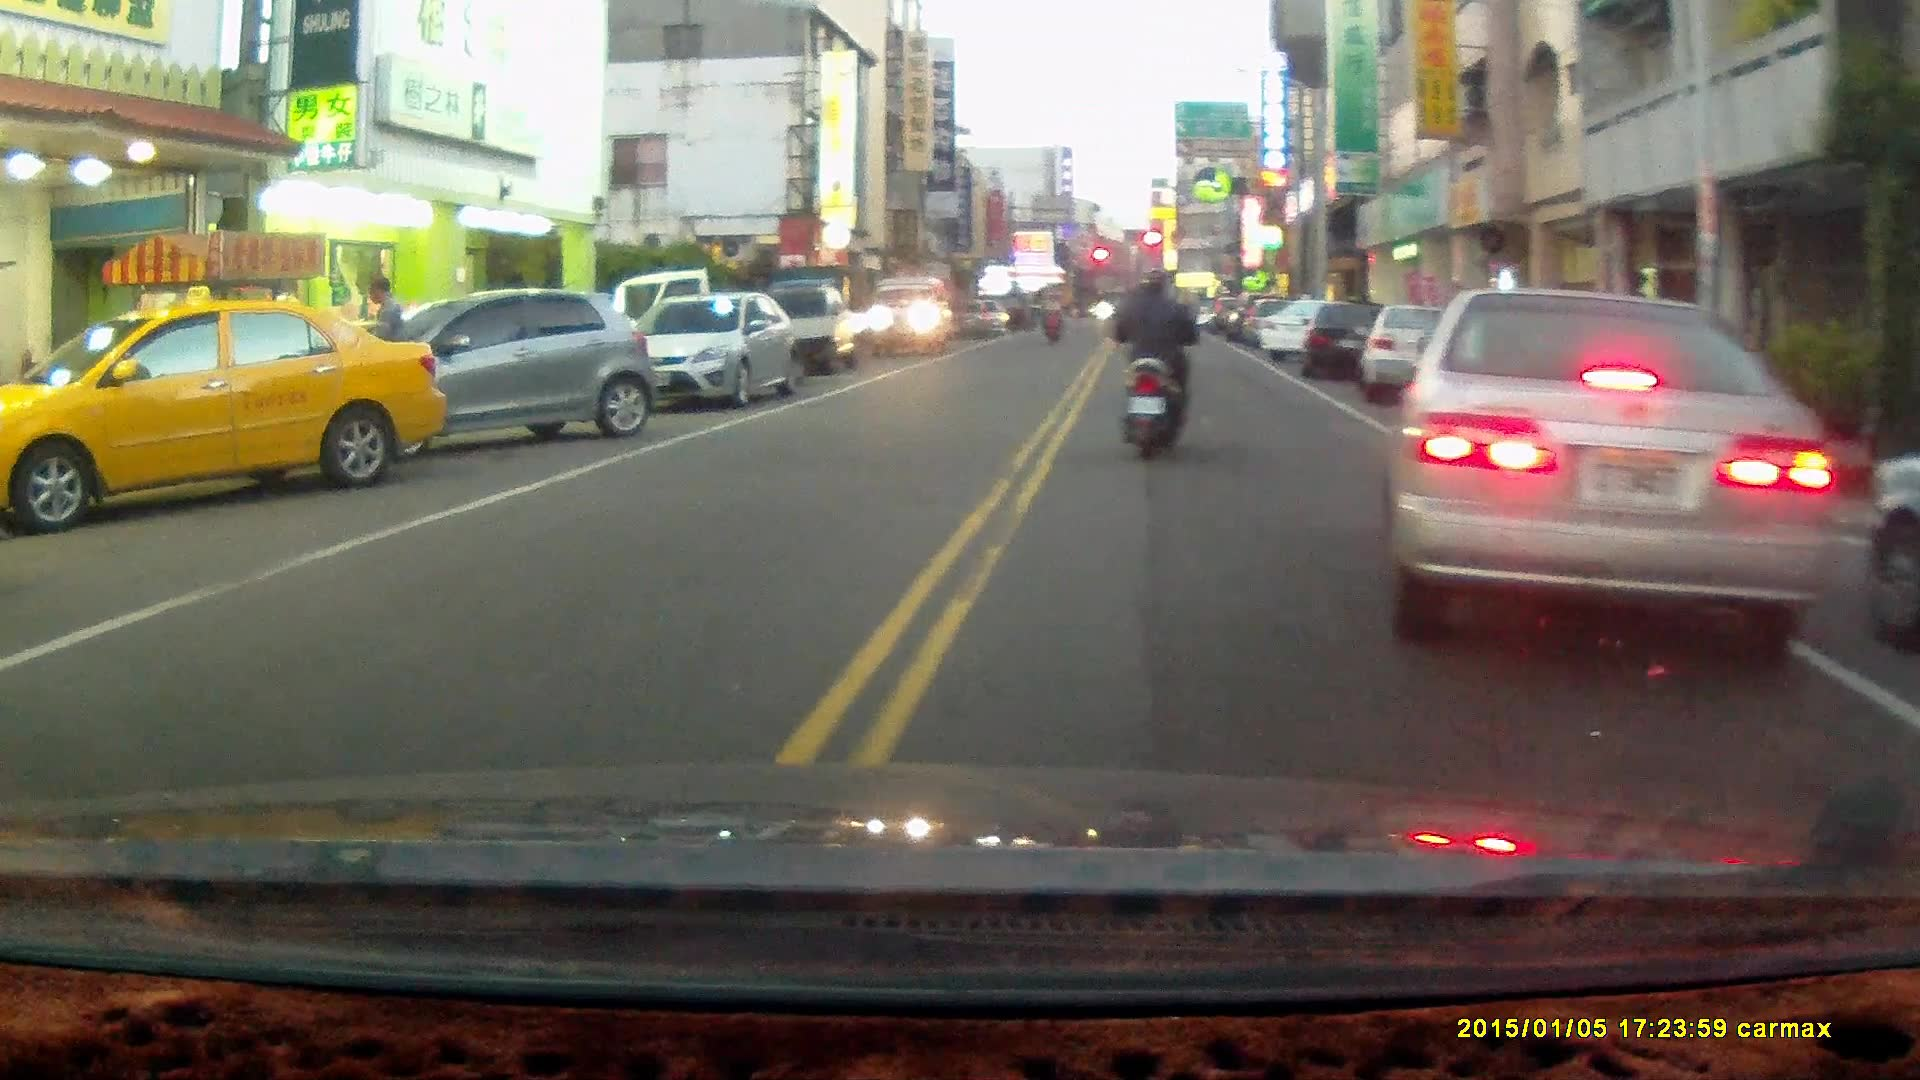pedestrian: (357, 275, 410, 452)
rider: (1102, 267, 1210, 464), (1037, 287, 1065, 343)
vehicle: (1385, 289, 1850, 656), (1, 297, 451, 530), (335, 283, 659, 442), (621, 289, 802, 408), (750, 281, 875, 377), (1363, 302, 1480, 404), (870, 278, 957, 350)
